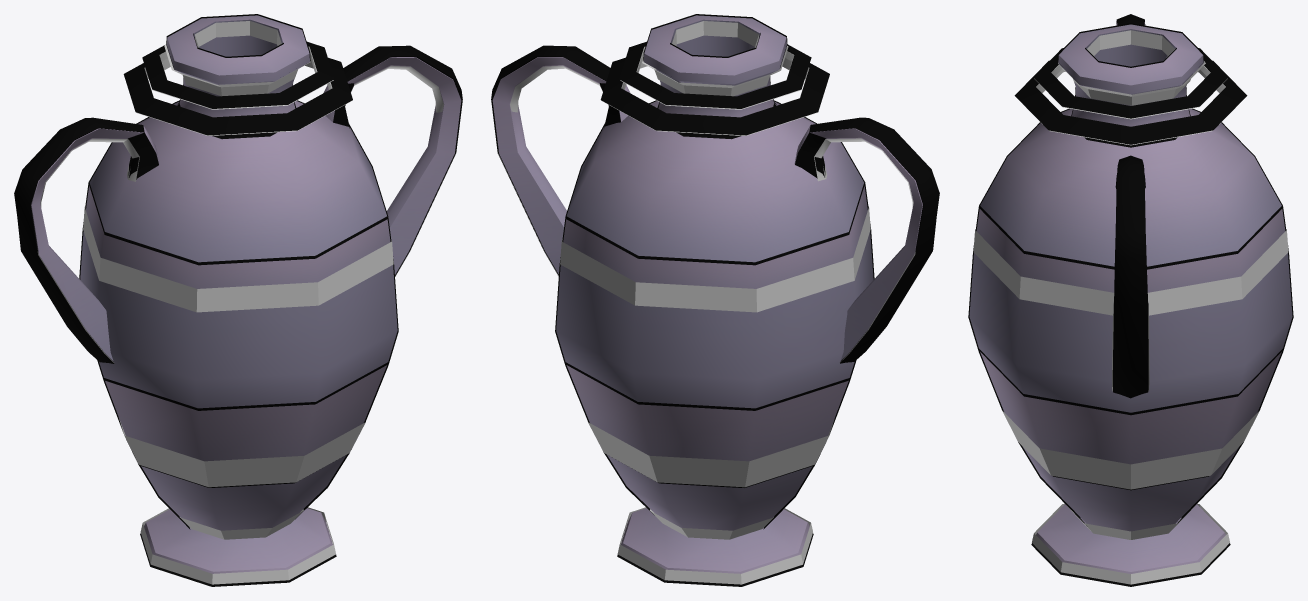
The model's file is Rooms_Paradise_Vase_Mid_Art.fbx.
The picture shows the model from 3 angles, left to right: view 1: azimuth 30°, elevation 25°; view 2: azimuth 150°, elevation 25°; view 3: azimuth 270°, elevation 25°; orthographic projection. The views are drawn at different scales.
Parts seen in each view (by area): view 1: Rooms_Paradise_Vase_Mid_Art, Rooms_Paradise_Vase_Mid_Shadows, Rooms_Paradise_Vase_Mid_Outline_Art; view 2: Rooms_Paradise_Vase_Mid_Art, Rooms_Paradise_Vase_Mid_Shadows, Rooms_Paradise_Vase_Mid_Outline_Art; view 3: Rooms_Paradise_Vase_Mid_Art, Rooms_Paradise_Vase_Mid_Outline_Art, Rooms_Paradise_Vase_Mid_Shadows.
Part boxes in pixels (box(x1,y1,x2,y2)): Rooms_Paradise_Vase_Mid_Art: box(31, 15, 461, 573); Rooms_Paradise_Vase_Mid_Shadows: box(37, 21, 455, 584); Rooms_Paradise_Vase_Mid_Outline_Art: box(14, 14, 462, 586); Rooms_Paradise_Vase_Mid_Art: box(492, 15, 922, 573); Rooms_Paradise_Vase_Mid_Shadows: box(498, 21, 915, 584); Rooms_Paradise_Vase_Mid_Outline_Art: box(491, 14, 939, 586); Rooms_Paradise_Vase_Mid_Art: box(969, 21, 1292, 573); Rooms_Paradise_Vase_Mid_Outline_Art: box(968, 14, 1293, 586); Rooms_Paradise_Vase_Mid_Shadows: box(973, 30, 1288, 584).
Size of the model in its own units: 152 by 166 by 98.21.
